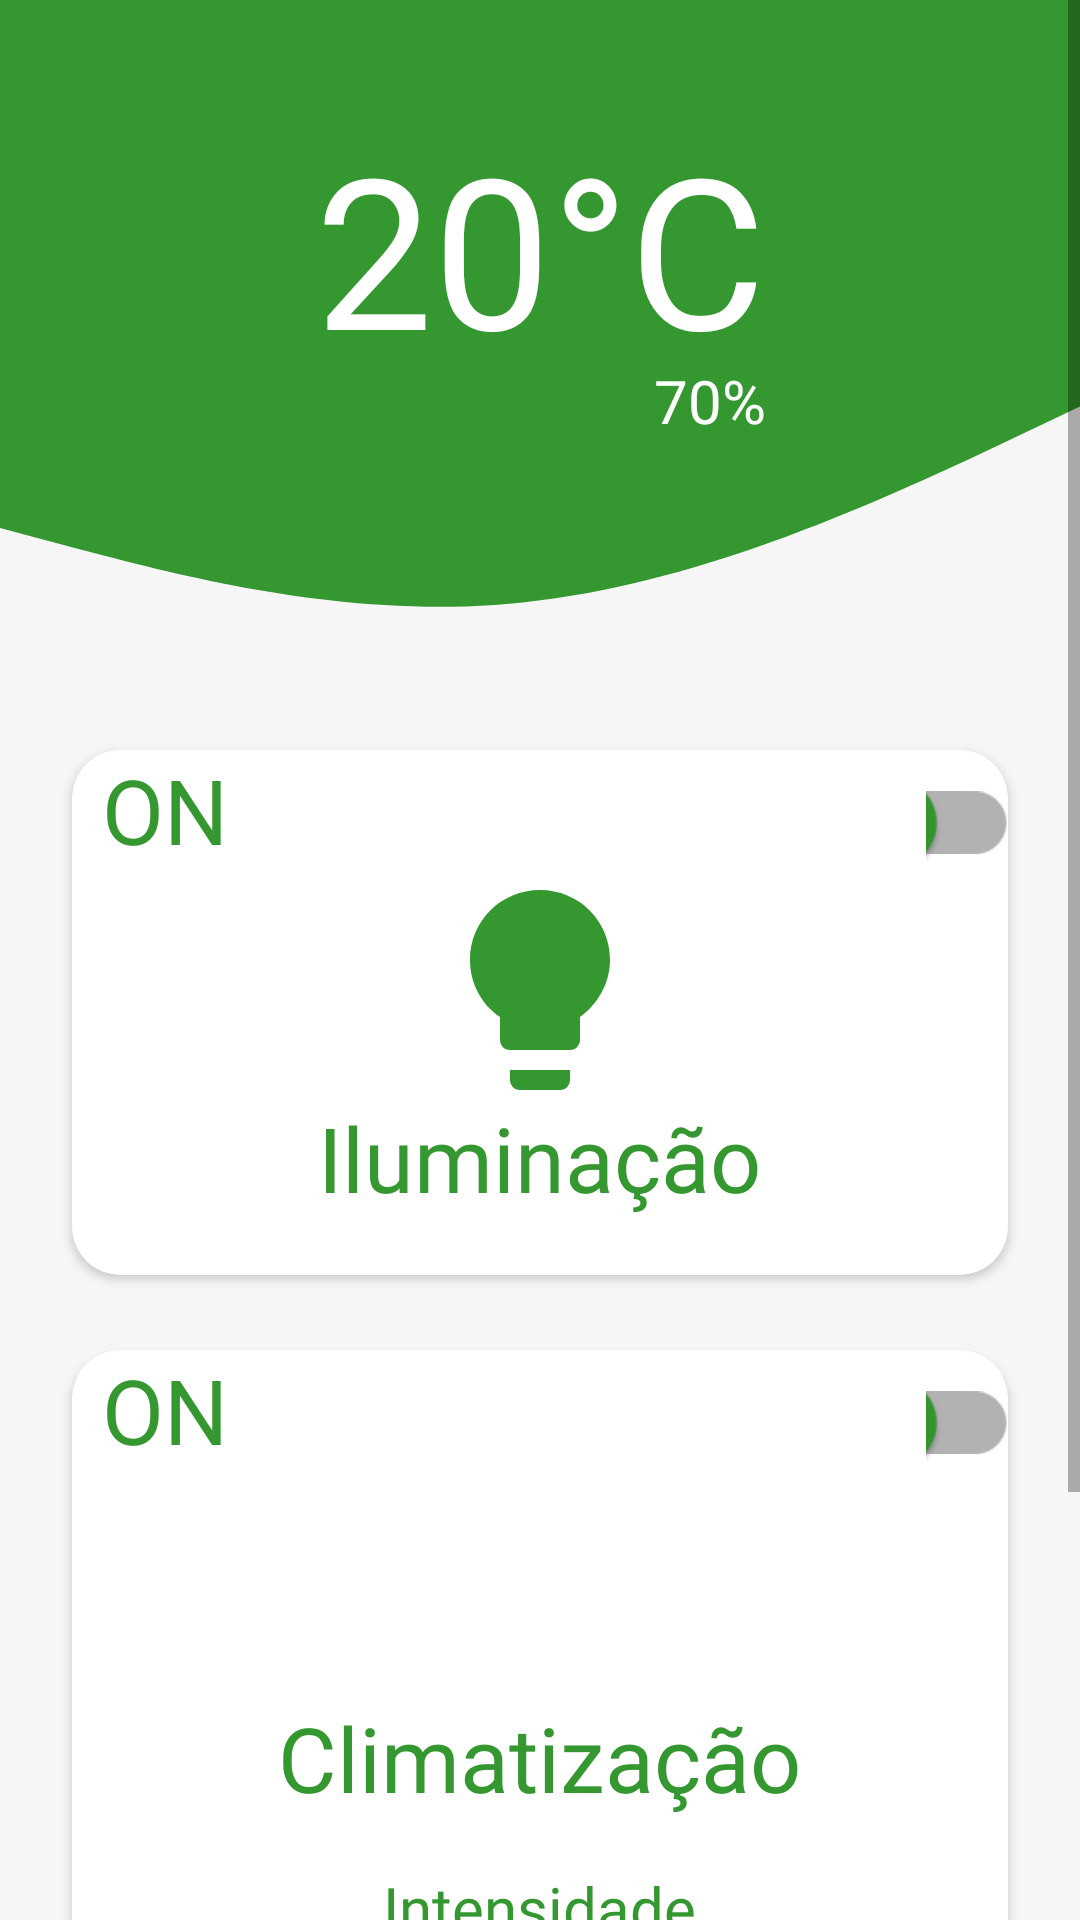

Named icons in this screenshot (1080×1920) and their centers, point (x, y):
lightbulb: point (540, 990)
